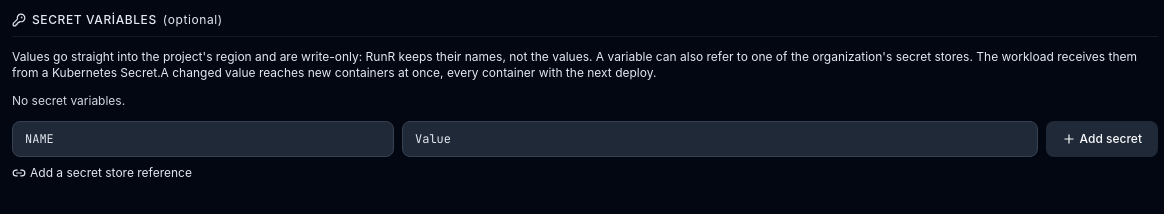
it: SecretEnvVarsEditor — project mode (edit project) › shows the API validation message
Type "X" into the field with test id "secret-new-name" at (203, 139), box [12,121,394,157]
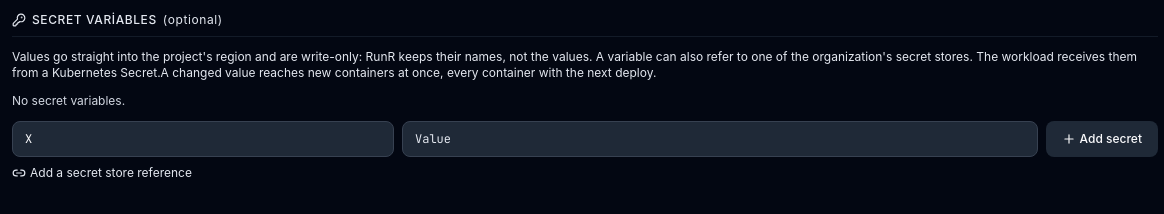
Type "v" into the password field with test id "secret-new-value" at (720, 139), box [402,121,1038,157]
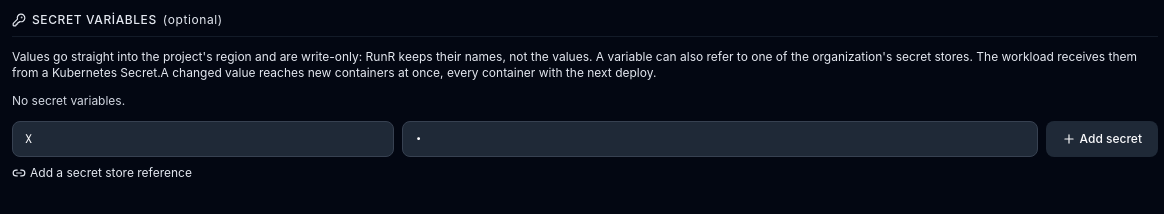
Click the button with test id "secret-add" at (1102, 139), box [1046,121,1158,157]
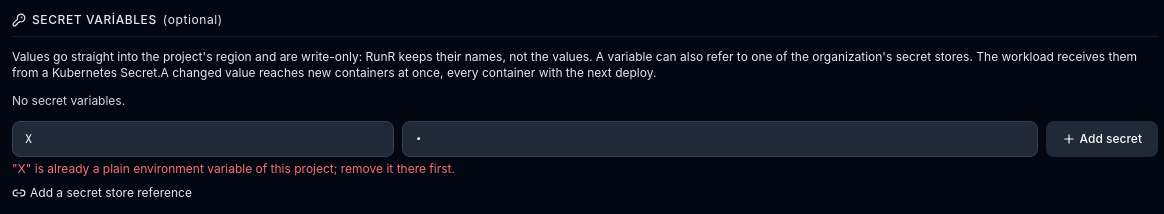
Expected: the text with test id "secret-error" shows "already a plain environment variable", [12,161,455,176]
